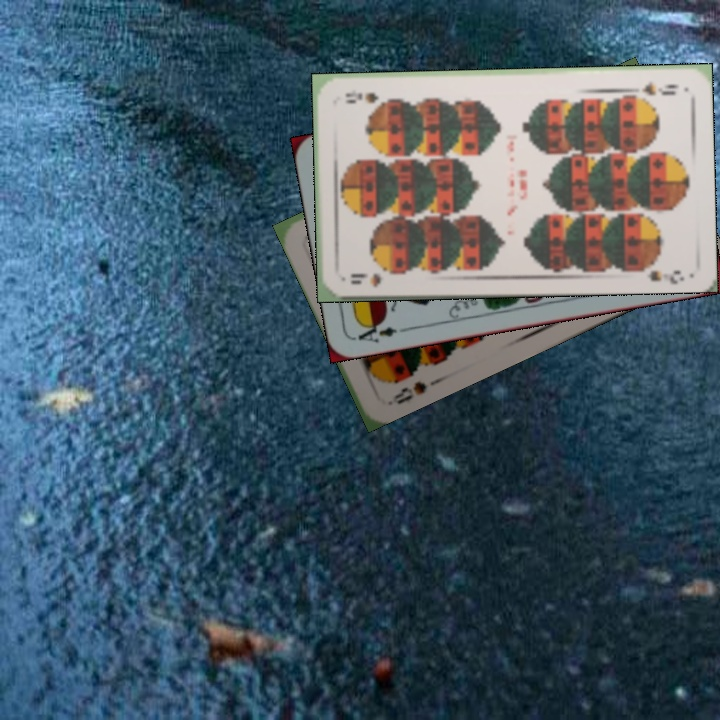EA: (354, 317, 411, 345)
S8: (388, 377, 430, 407)
S9: (347, 265, 401, 289), (637, 77, 681, 98)
